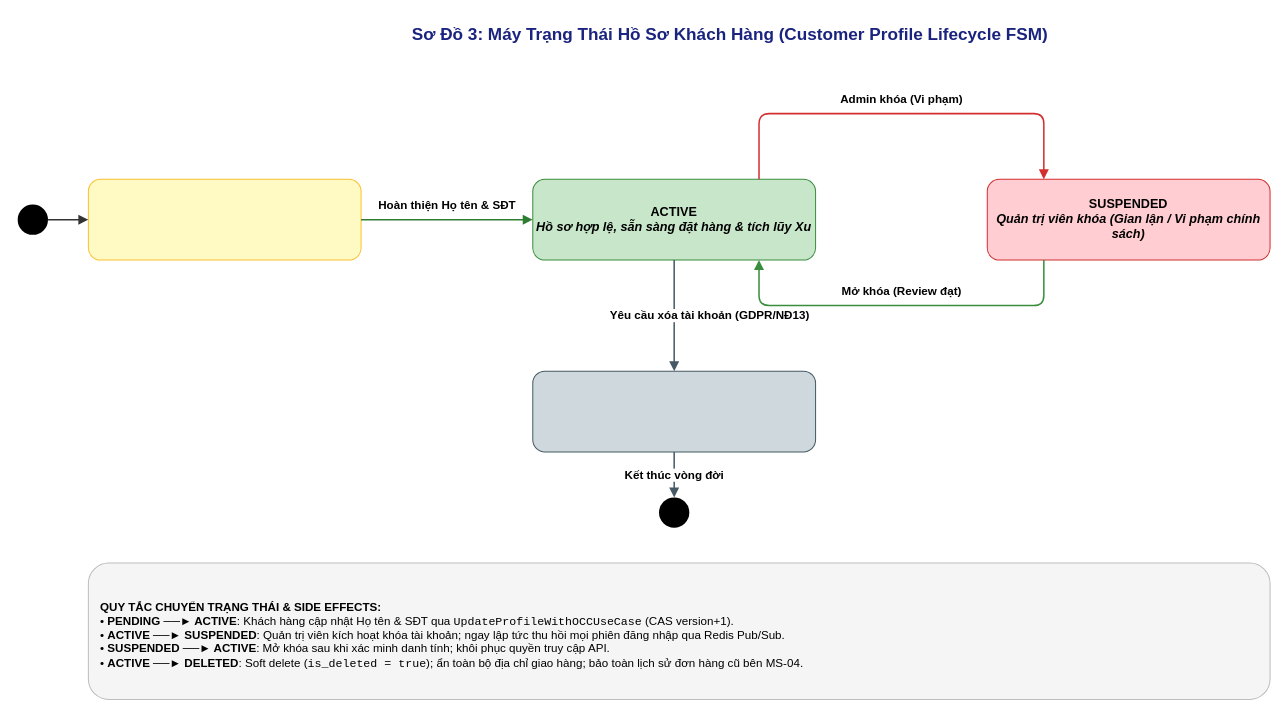
This 1288x717 diagram has some shape labels left out. Each missing label, with the centre of its shape:
"DELETED (Soft Delete) Quyền được lãng quên (Right to be Forgotten - NĐ 13/2023)" goes at (x=674, y=411).
"PENDING_VERIFICATION Đăng ký mới từ MS-16 (Thiếu Họ tên / SĐT)" goes at (x=224, y=219).
